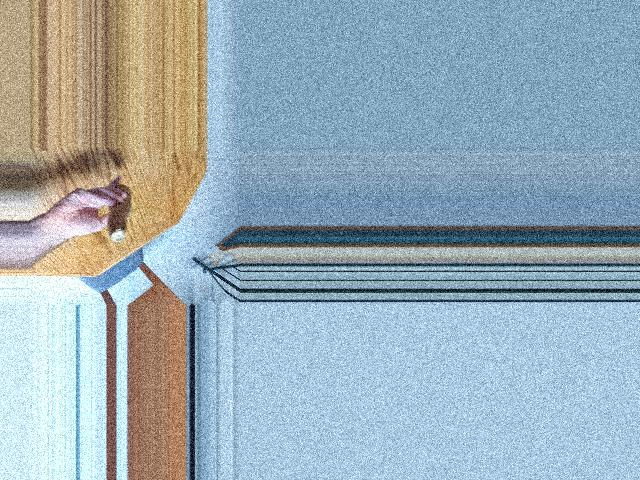sweet_potato: (105, 187, 131, 232)
